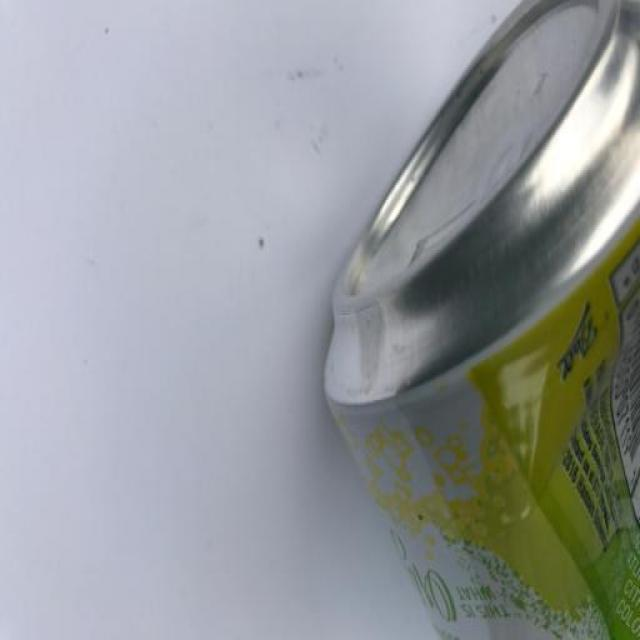metel: (333, 1, 640, 640)
